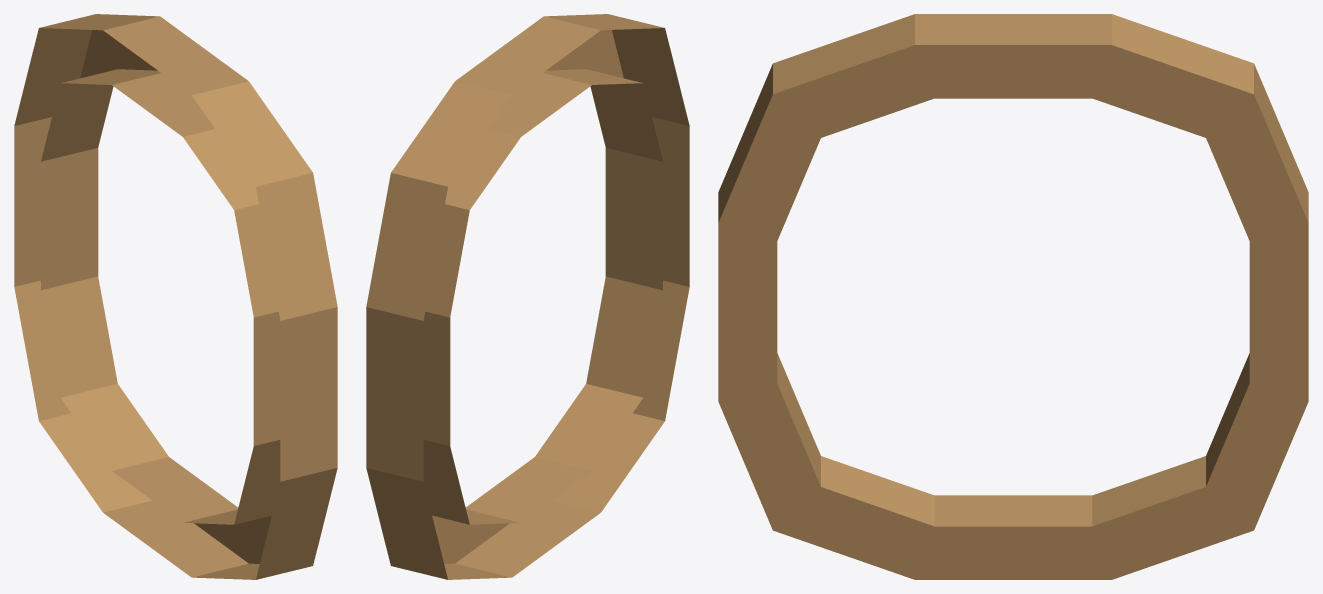
The model's file is Painting 2.fbx.
3 views of the same model, side by side, from view 1: azimuth 30°, elevation 25°; view 2: azimuth 150°, elevation 25°; view 3: azimuth 270°, elevation 25° (orthographic). The views are drawn at different scales.
Parts seen in each view (by area): view 1: painting 2; view 2: painting 2; view 3: painting 2.
Part boxes in pixels (left/top/right/bottom): painting 2: left=14, top=14, right=337, bottom=579; painting 2: left=366, top=14, right=689, bottom=579; painting 2: left=718, top=14, right=1308, bottom=579.
Bounding box in the file's own units: 10 × 80.46 × 80.46.
